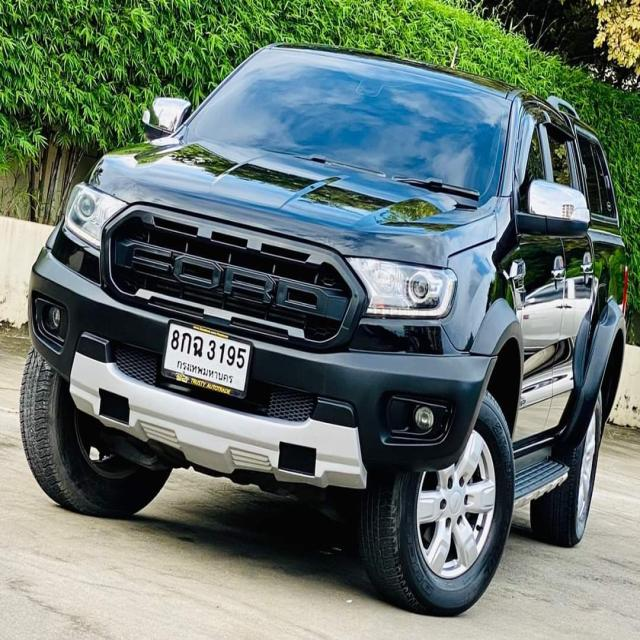license_plate: (158, 316, 255, 405)
